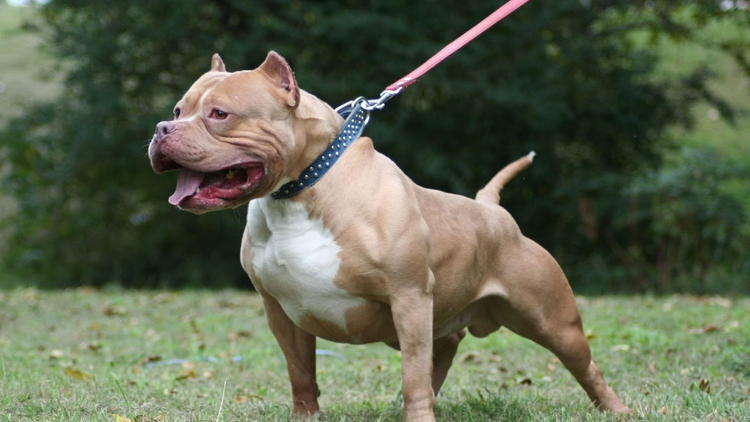Perro Pitbull: (136, 36, 591, 422)
